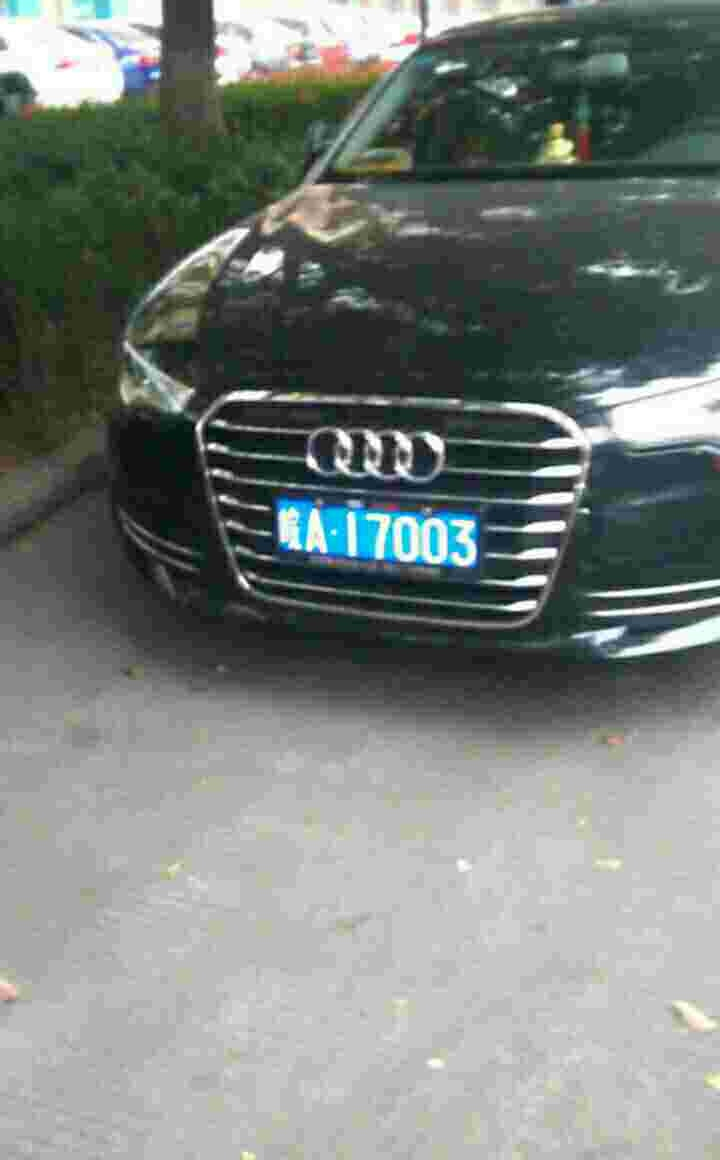license_plate: (271, 491, 484, 567)
